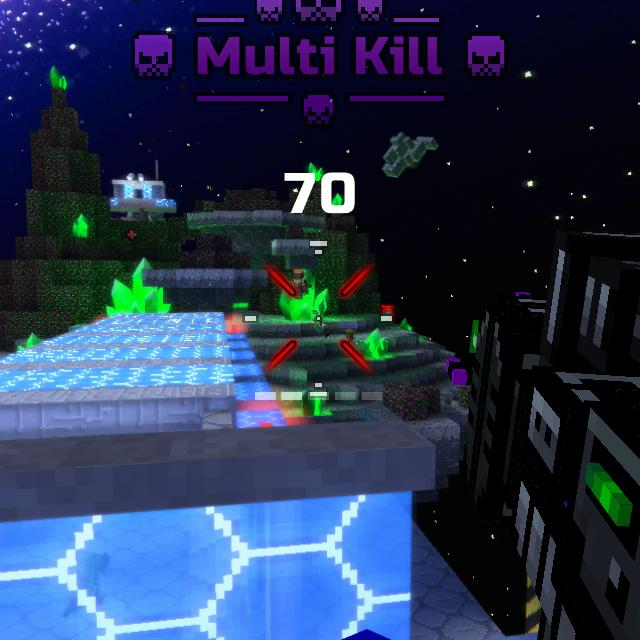Enemy: (383, 309, 393, 321)
